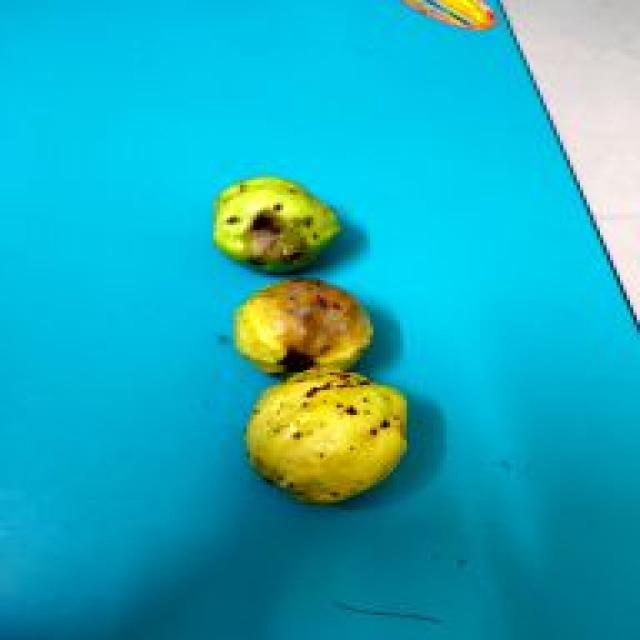Bad_Guava: (213, 176, 342, 272), (237, 280, 370, 373)
